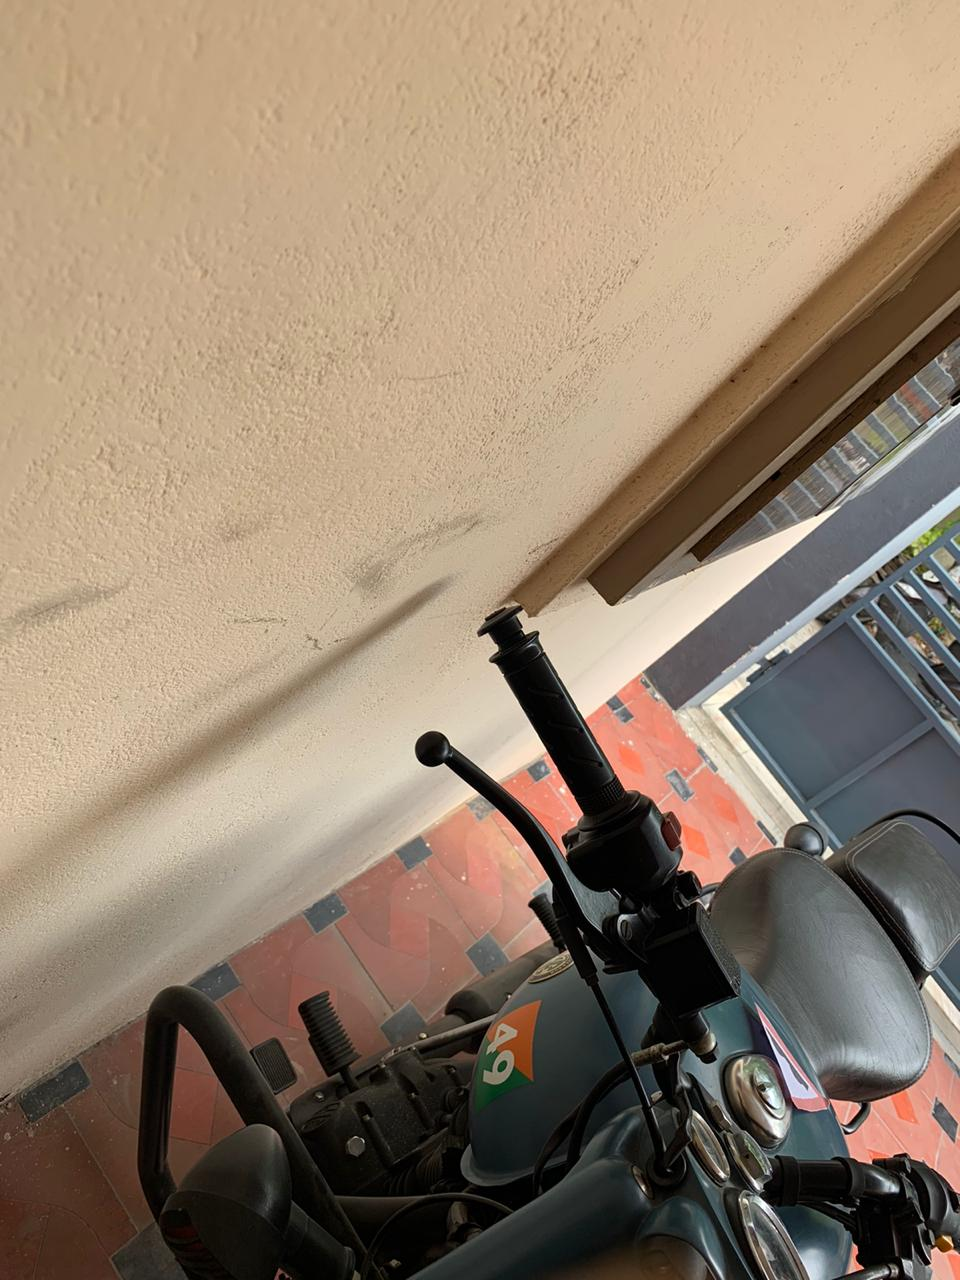UNEVEN ROAD: (740, 985, 863, 1133)
